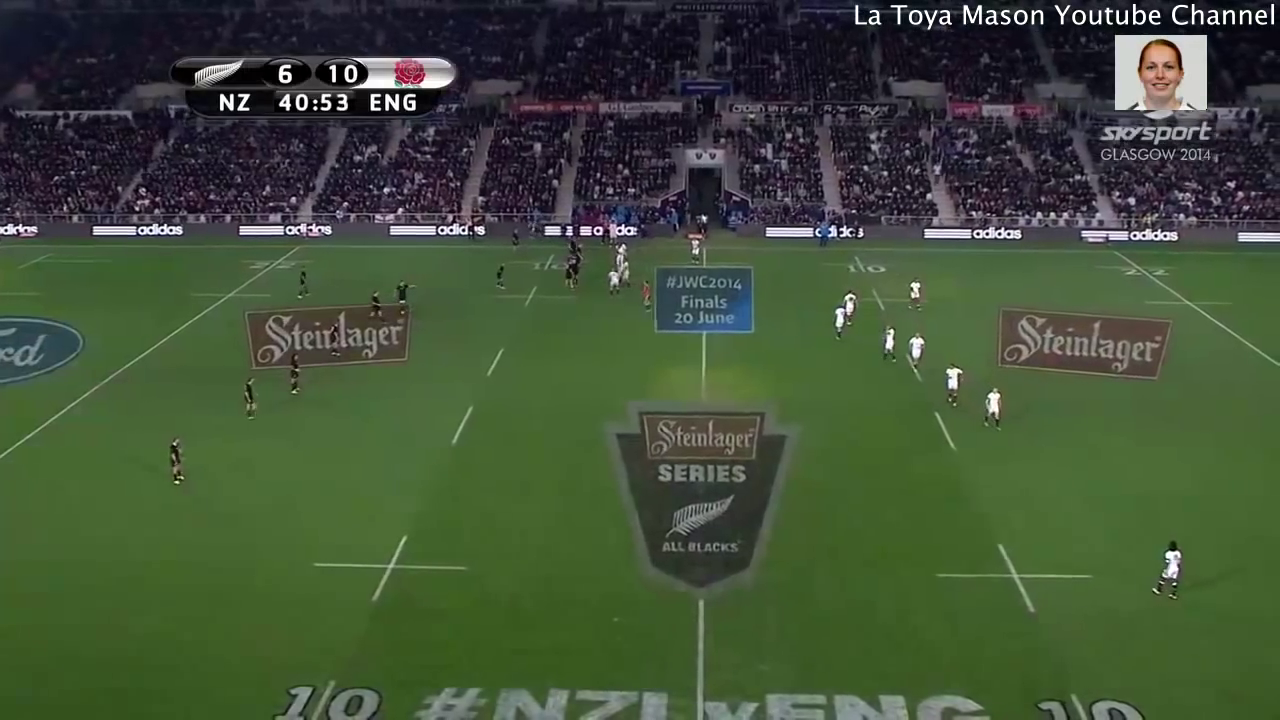10_metre: (917, 534, 1097, 622), (305, 528, 477, 611), (266, 674, 388, 720), (1022, 685, 1159, 720), (492, 282, 581, 309), (839, 289, 937, 312), (508, 251, 583, 274), (818, 254, 903, 274)
player: (1149, 533, 1186, 610), (159, 434, 193, 504), (977, 382, 1008, 437), (237, 370, 263, 427), (902, 325, 927, 377), (941, 361, 966, 413), (362, 287, 391, 331), (388, 276, 417, 319), (284, 347, 305, 399), (325, 314, 347, 360), (877, 320, 899, 366), (841, 286, 861, 332), (900, 274, 924, 312), (292, 262, 314, 302), (491, 258, 511, 294), (831, 302, 849, 342), (639, 279, 655, 315), (686, 234, 702, 267), (507, 224, 524, 255), (617, 259, 634, 290), (563, 266, 580, 297), (604, 266, 622, 295), (614, 240, 629, 264), (568, 256, 581, 278), (615, 252, 626, 275), (575, 243, 586, 262), (566, 235, 575, 255)
